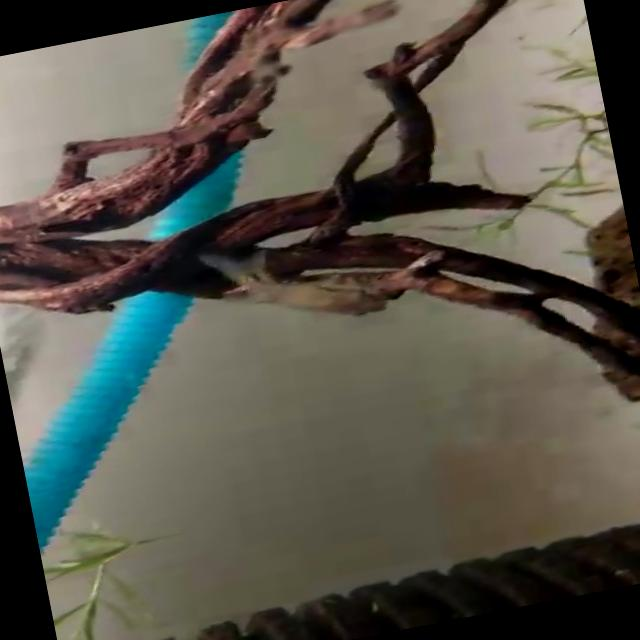Cakil Baligi: (181, 218, 388, 350)
